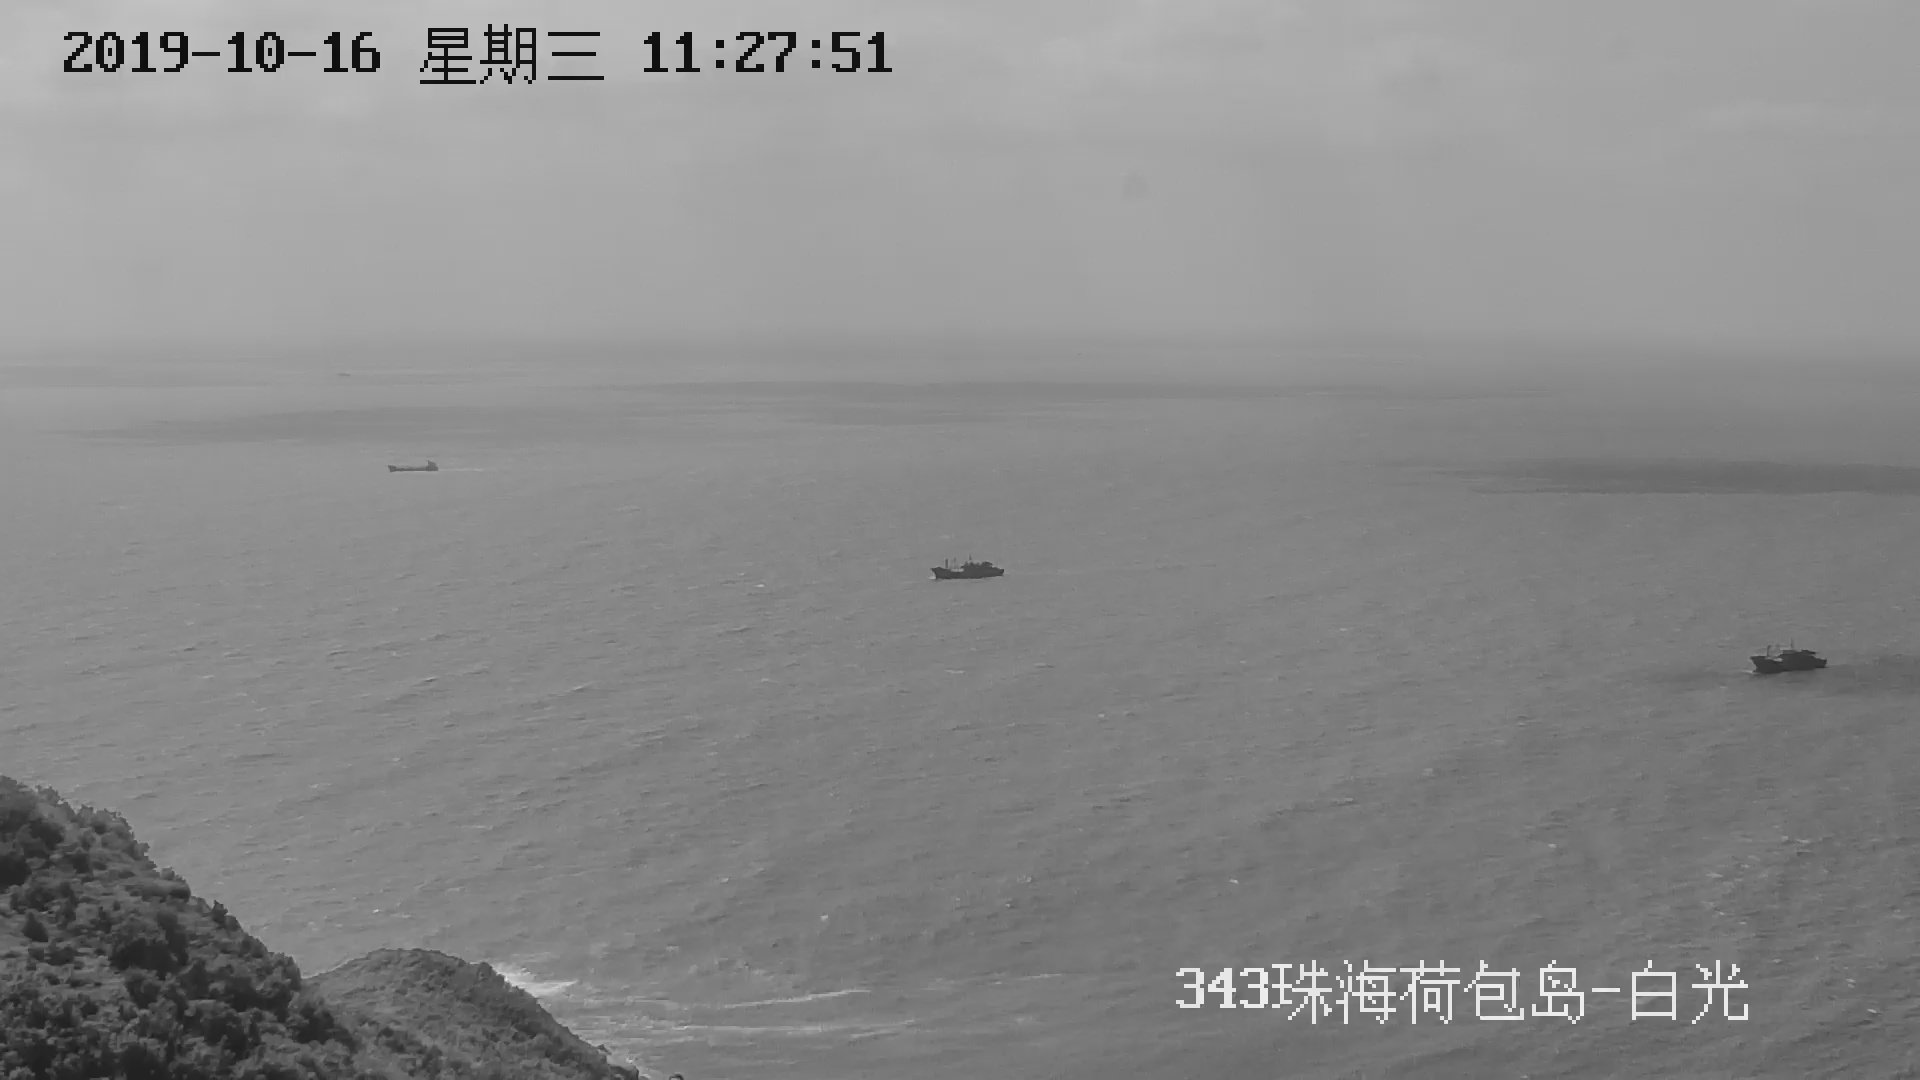ship: (1747, 647, 1826, 675), (931, 558, 1005, 582), (389, 458, 438, 475)
